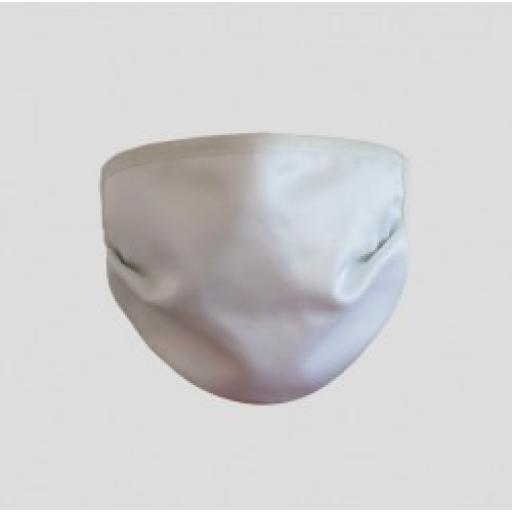mask: (90, 127, 436, 411)
